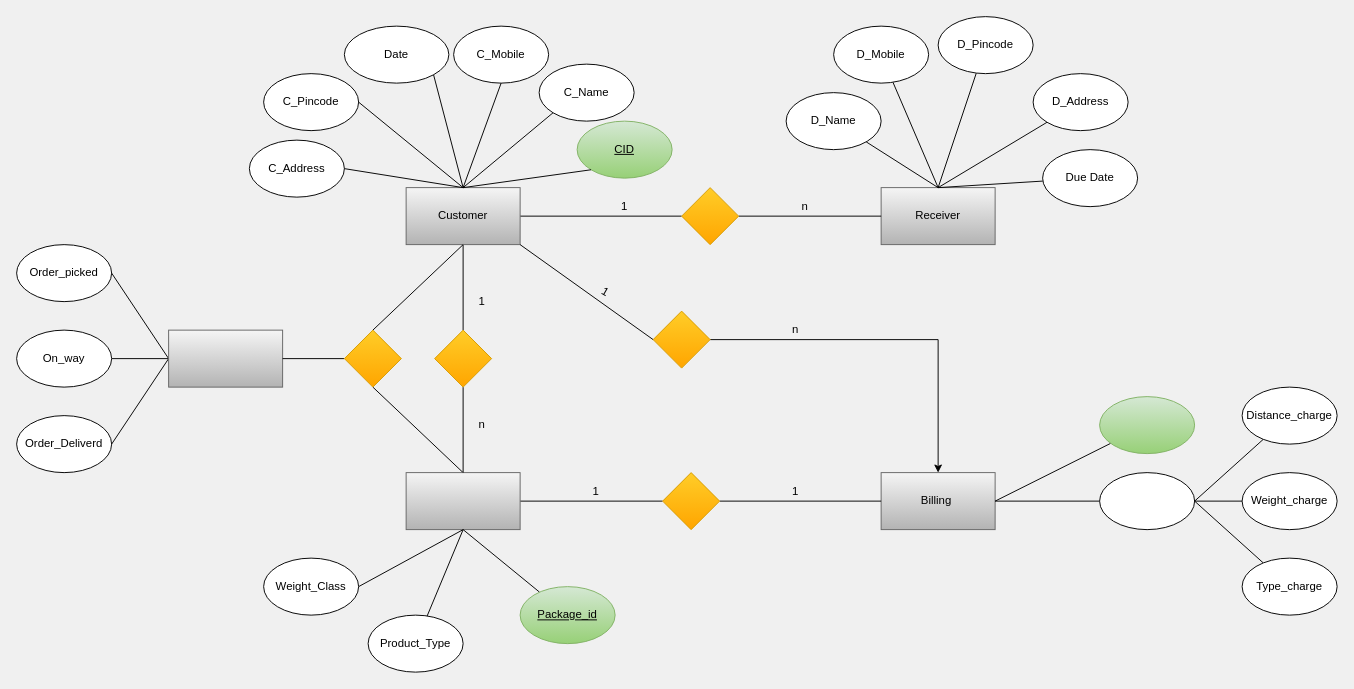
The diagram is 1354 pixels wide and 689 high, and some of its shapes have lost their labels. Here are the shapes that lost their labels. From the top down, the centre of each, then its label:
At (710,216): "Send to".
At (225,358): "Current State".
At (372,358): "Can Tracks".
At (463,358): "Has".
At (681,339): "To pay".
At (1147,425): "Bill_No".
At (462,501): "Package".
At (691,501): "Price".
At (1147,501): "Total".
